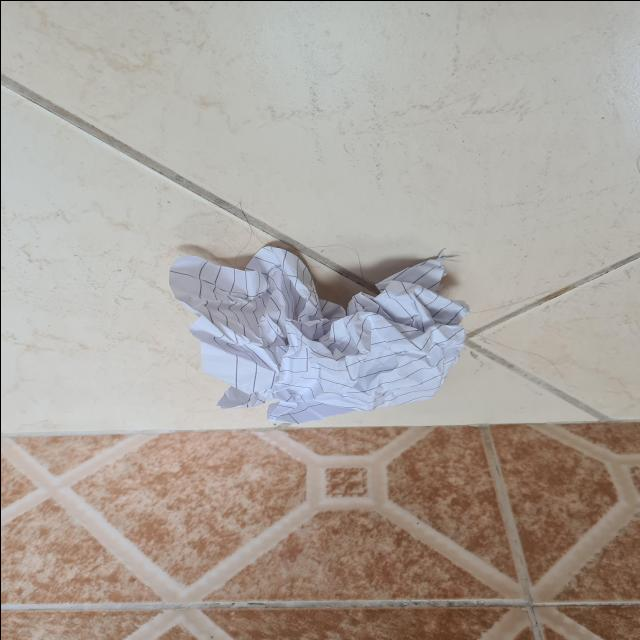kertas: (176, 245, 452, 418)
